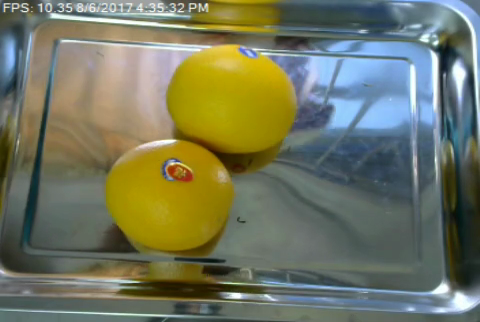Orange: (163, 43, 295, 154), (103, 140, 233, 250)
